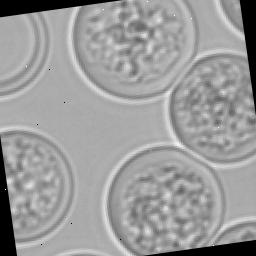picoshell: (65, 0, 196, 105), (104, 146, 222, 256), (163, 53, 256, 170), (0, 126, 75, 249), (0, 13, 51, 102), (205, 218, 256, 246), (214, 0, 243, 41), (58, 250, 107, 256)
